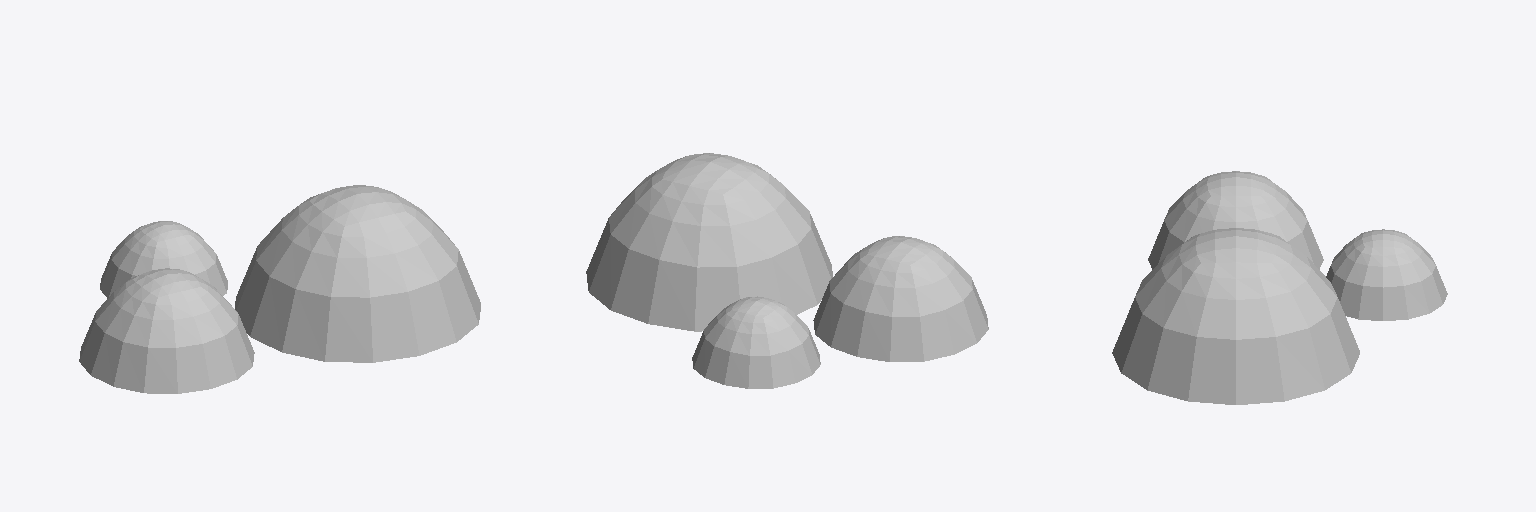
File: hill_base.obj
3 views of the same model, side by side, from view 1: azimuth 30°, elevation 25°; view 2: azimuth 150°, elevation 25°; view 3: azimuth 270°, elevation 25° (orthographic).
Parts seen in each view (by area): view 1: hill_base_Cube.002; view 2: hill_base_Cube.002; view 3: hill_base_Cube.002.
Part boxes in pixels (left/top/right/bottom): hill_base_Cube.002: left=79, top=185, right=480, bottom=393; hill_base_Cube.002: left=586, top=153, right=988, bottom=388; hill_base_Cube.002: left=1112, top=171, right=1447, bottom=404.
Size of the model in its own units: 21.92 by 6.57 by 17.03.